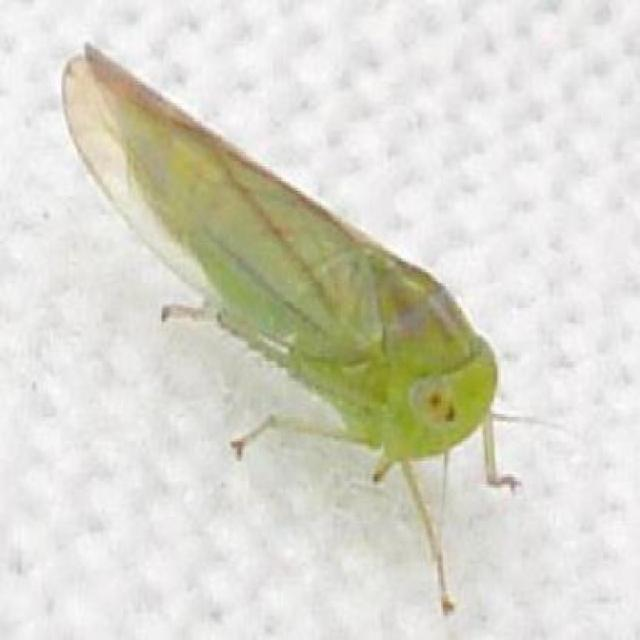green-leafhopper: (63, 41, 520, 612)
